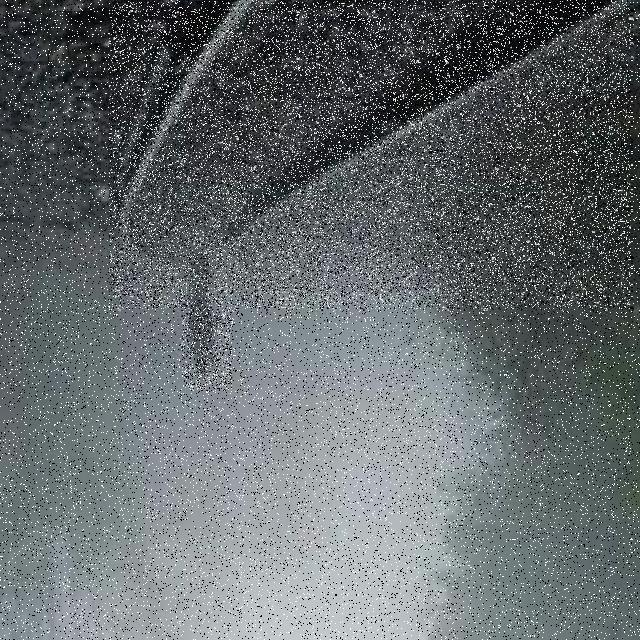rail: (111, 2, 633, 310)
